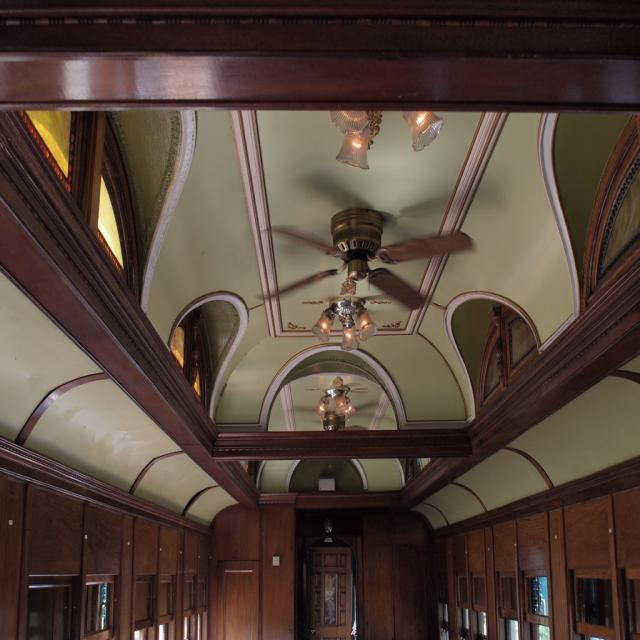bulb_on: (408, 113, 438, 127), (347, 136, 367, 155), (354, 317, 376, 327), (339, 404, 359, 415), (318, 318, 329, 335), (339, 330, 357, 340), (338, 400, 349, 408), (317, 404, 324, 412), (329, 416, 333, 422)
fan_on: (260, 214, 471, 312), (296, 382, 381, 398)
